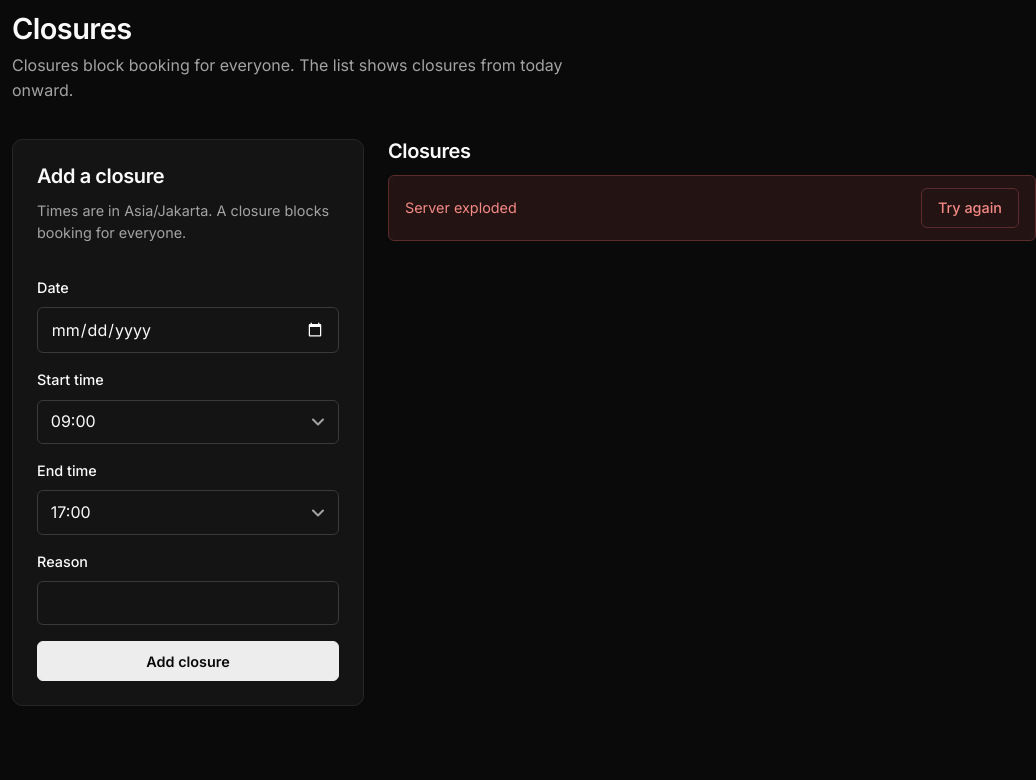
Test: ClosuresPage › shows a load error and recovers with Try again
The width and height of the screenshot is (1036, 780).
Expected: the message shows "Server exploded", 405,199 -> 517,216
Click the button "Try again" at (970, 208), box 921,188 -> 1019,228
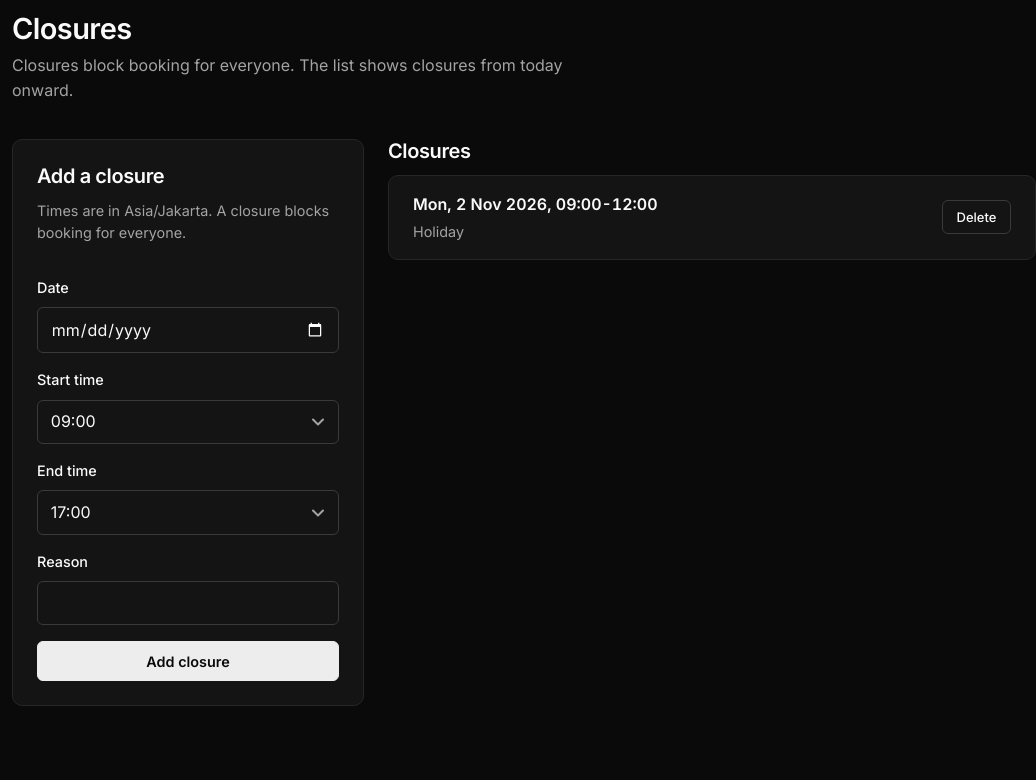
Expected: the text "Holiday" is shown, 413,223 -> 464,240
